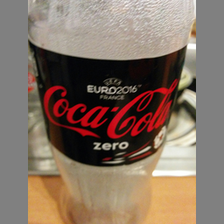soda: (28, 1, 194, 224)
